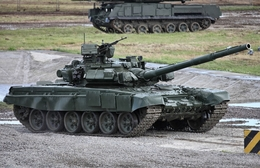t72: (3, 42, 243, 137)
